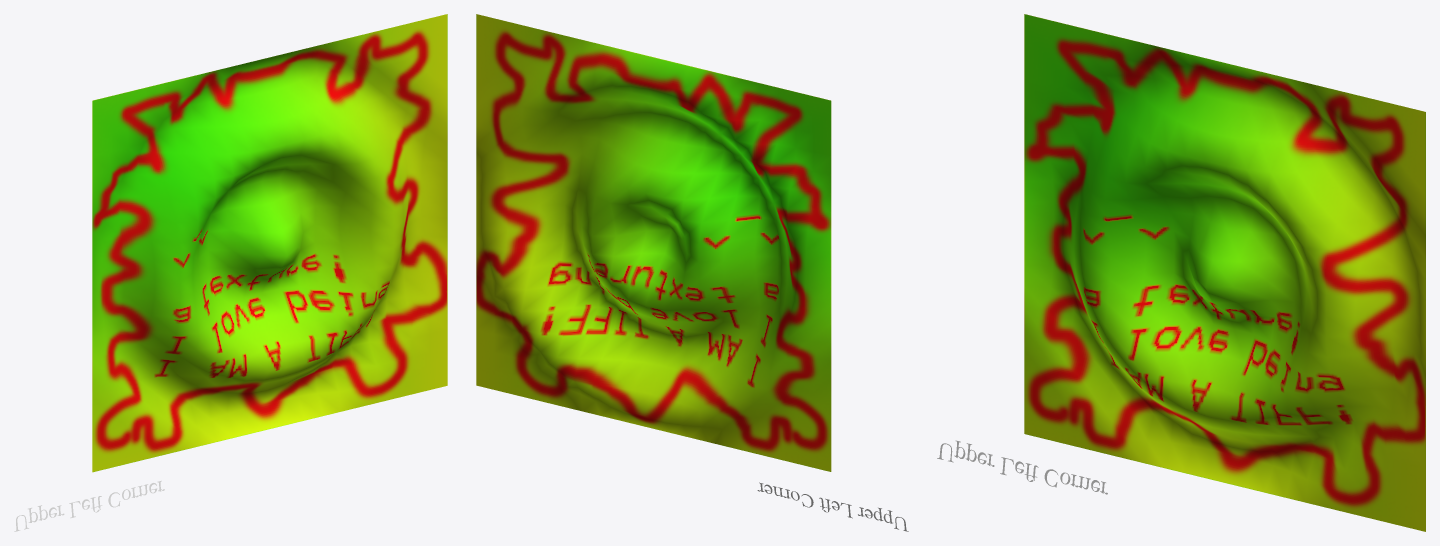
The model's file is simple_010_TextureFormats-TIFF_04.dae.
3 views of the same model, side by side, from view 1: azimuth 30°, elevation 25°; view 2: azimuth 150°, elevation 25°; view 3: azimuth 330°, elevation 25° (orthographic). The views are drawn at different scales.
Parts seen in each view (by area): view 1: pPlane1; view 2: pPlane1; view 3: pPlane1.
Boxes of the visible parts, box(x1,y1,x2,y2) form: pPlane1: box(92, 14, 447, 472); pPlane1: box(476, 14, 831, 471); pPlane1: box(1024, 14, 1425, 531).
Size of the model in its own units: 18.83 by 1.92 by 17.17.
